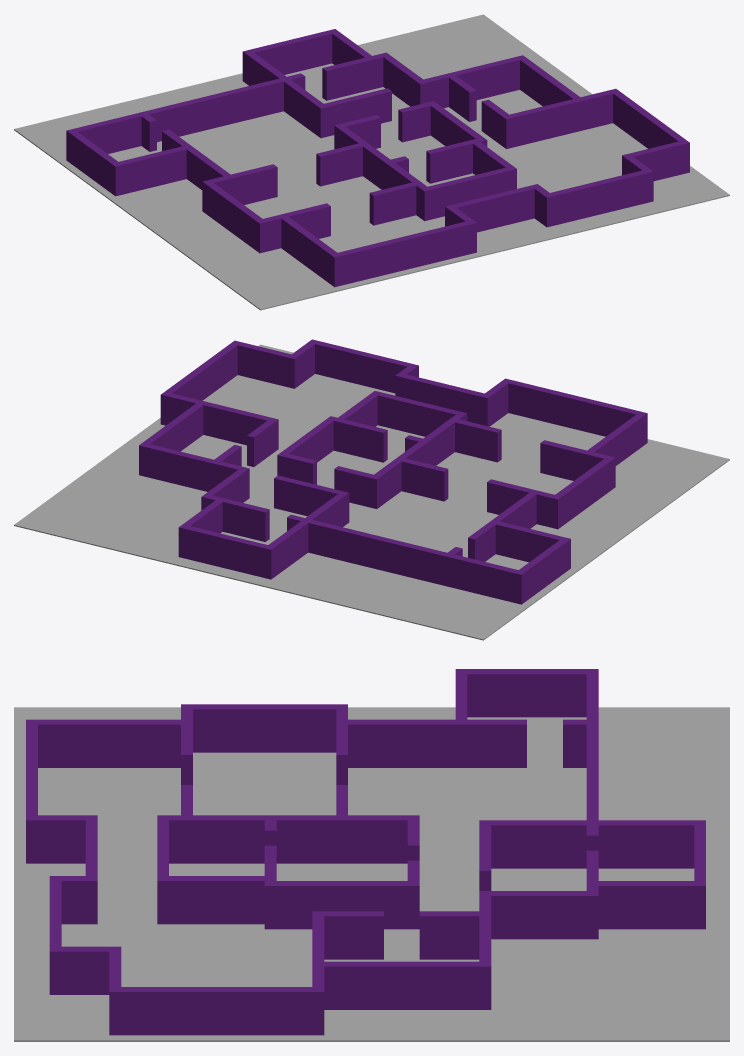
The model's file is Floor&Walls_V6.fbx.
3 renders of one model, top to bottom at view 1: azimuth 30°, elevation 25°; view 2: azimuth 150°, elevation 25°; view 3: azimuth 270°, elevation 25°, orthographic. The views are drawn at different scales.
Parts seen in each view (by area): view 1: Floor, Wall39, Wall20, Wall29, Wall26, Wall8, Wall35, Wall30, Wall38, Wall3, Wall36, Wall25 (+26 smaller); view 2: Floor, Wall39, Wall20, Wall30, Wall8, Wall26, Wall29, Wall38, Wall3, Wall25, Wall23, Wall27 (+24 smaller); view 3: Floor, Wall3, Wall25, Wall17, Wall7, Wall38, Wall37, Wall33, Wall24, Wall6, Wall18, Wall11 (+24 smaller).
Part boxes in pixels (x1,y1,x2,y2): Floor: (14, 14, 729, 310); Wall39: (66, 73, 305, 162); Wall20: (330, 220, 476, 287); Wall29: (502, 90, 612, 148); Wall26: (550, 170, 646, 225); Wall8: (416, 55, 526, 108); Wall35: (111, 146, 186, 196); Wall30: (242, 29, 338, 83); Wall38: (202, 180, 266, 253); Wall3: (338, 126, 431, 221); Wall36: (452, 185, 534, 232); Wall25: (609, 88, 689, 173); Floor: (14, 344, 729, 640); Wall39: (287, 514, 525, 604); Wall20: (501, 378, 647, 445); Wall30: (178, 524, 275, 579); Wall8: (139, 442, 249, 500); Wall26: (315, 341, 411, 393); Wall29: (168, 393, 278, 451); Wall38: (551, 456, 615, 529); Wall3: (374, 411, 467, 505); Wall25: (160, 340, 241, 425); Wall23: (377, 392, 459, 436); Wall27: (237, 342, 298, 388); Floor: (14, 707, 729, 1041); Wall3: (157, 815, 407, 863); Wall25: (109, 987, 324, 1035); Wall17: (348, 719, 526, 767); Wall7: (324, 961, 479, 1009); Wall38: (181, 704, 347, 752); Wall37: (38, 719, 180, 767); Wall33: (467, 669, 586, 717); Wall24: (157, 876, 264, 924); Wall6: (276, 881, 407, 929); Wall18: (479, 820, 586, 868); Wall11: (479, 891, 586, 939).
Bounding box in the file's own units: 6600 × 415 × 6000.
